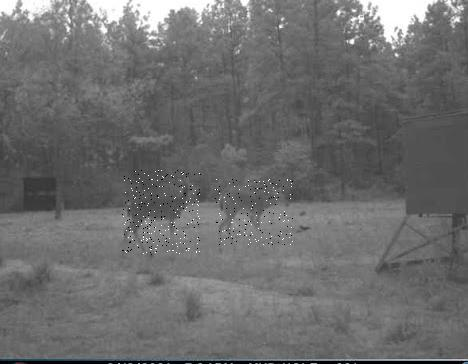Deer: (122, 170, 201, 255), (215, 179, 293, 245)
